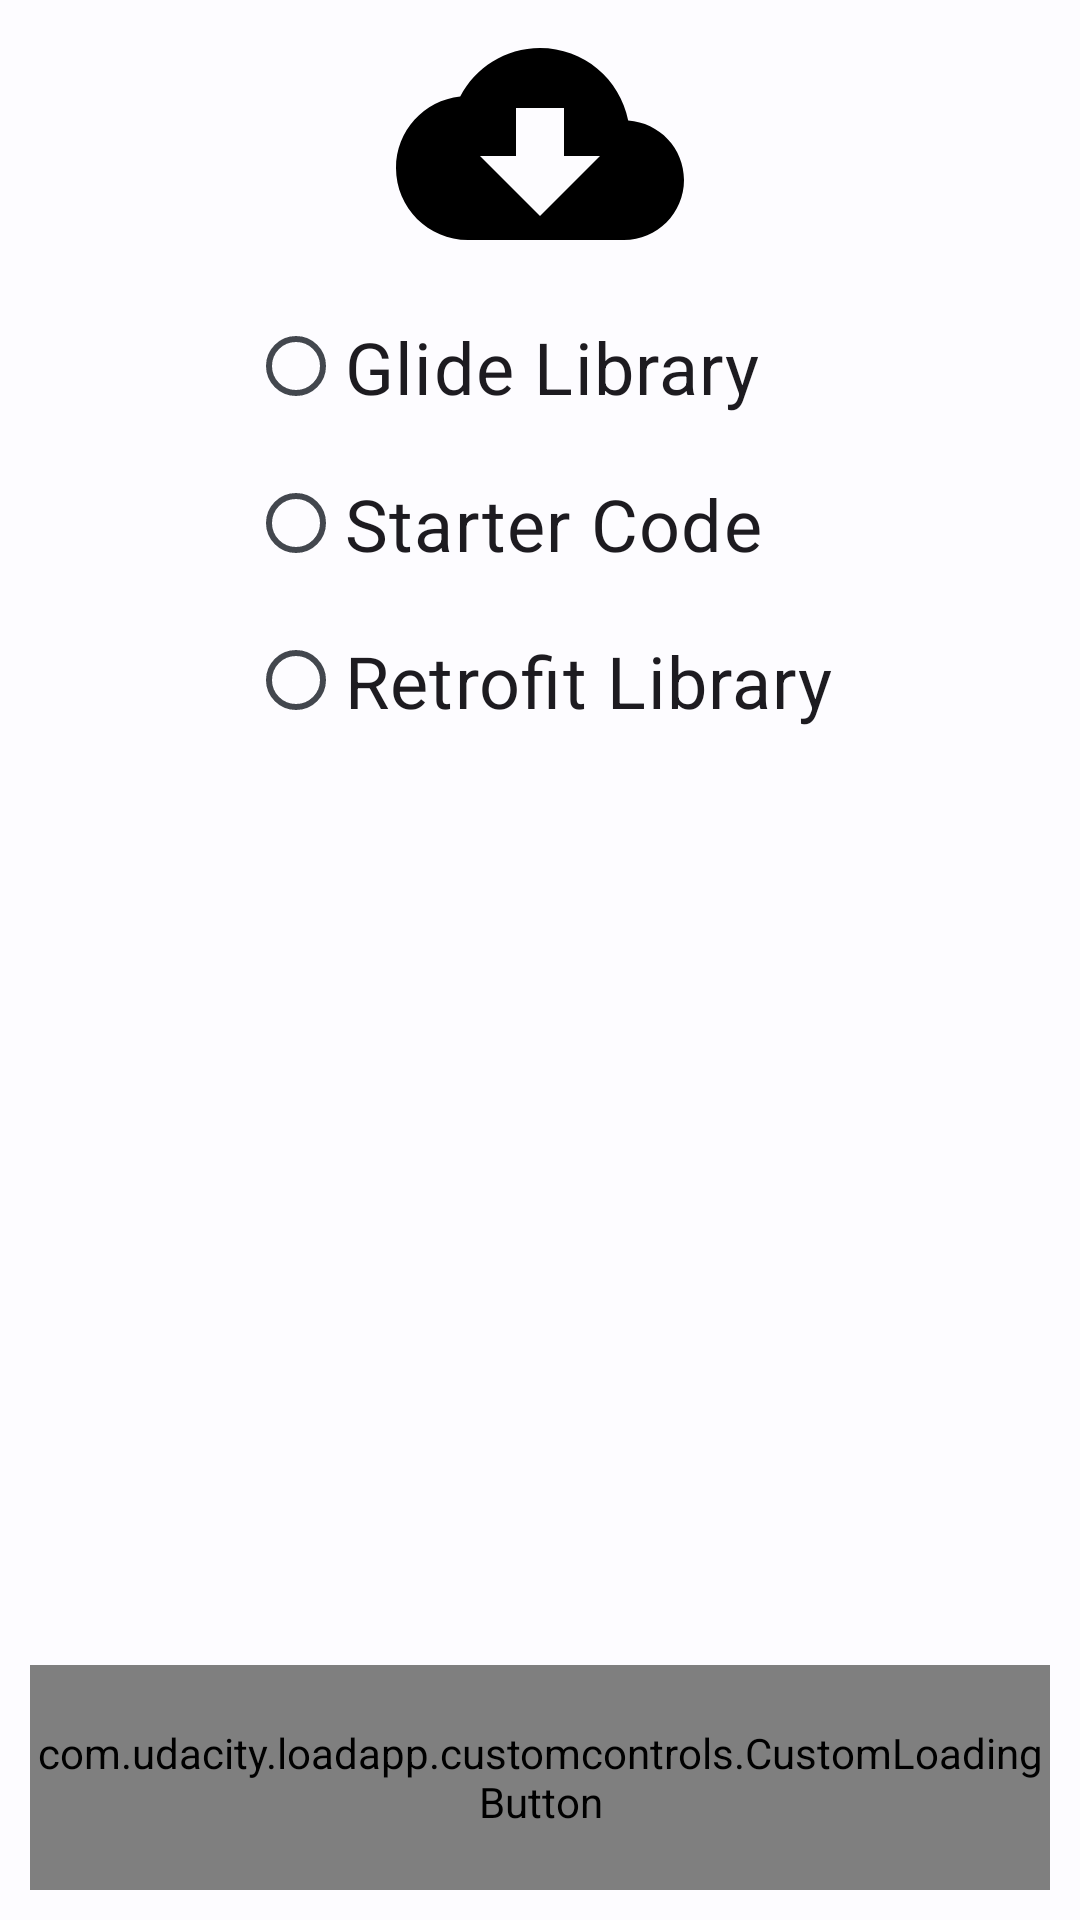

Icons on this 1080 × 1920 Android screen, each with its box as (x1, y1, x2, y2):
cloud download: (396, 48, 684, 240)
